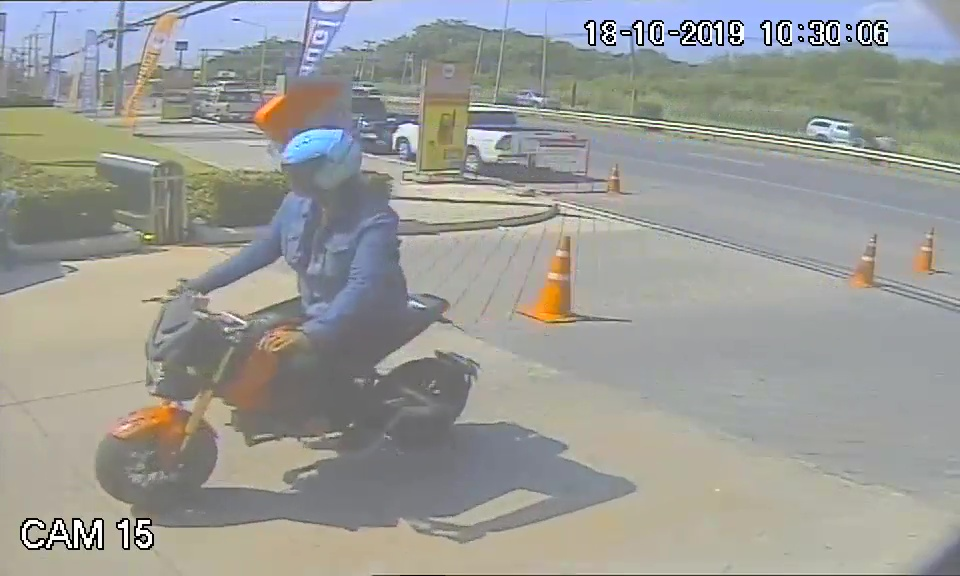motorcycle: (89, 286, 479, 510)
